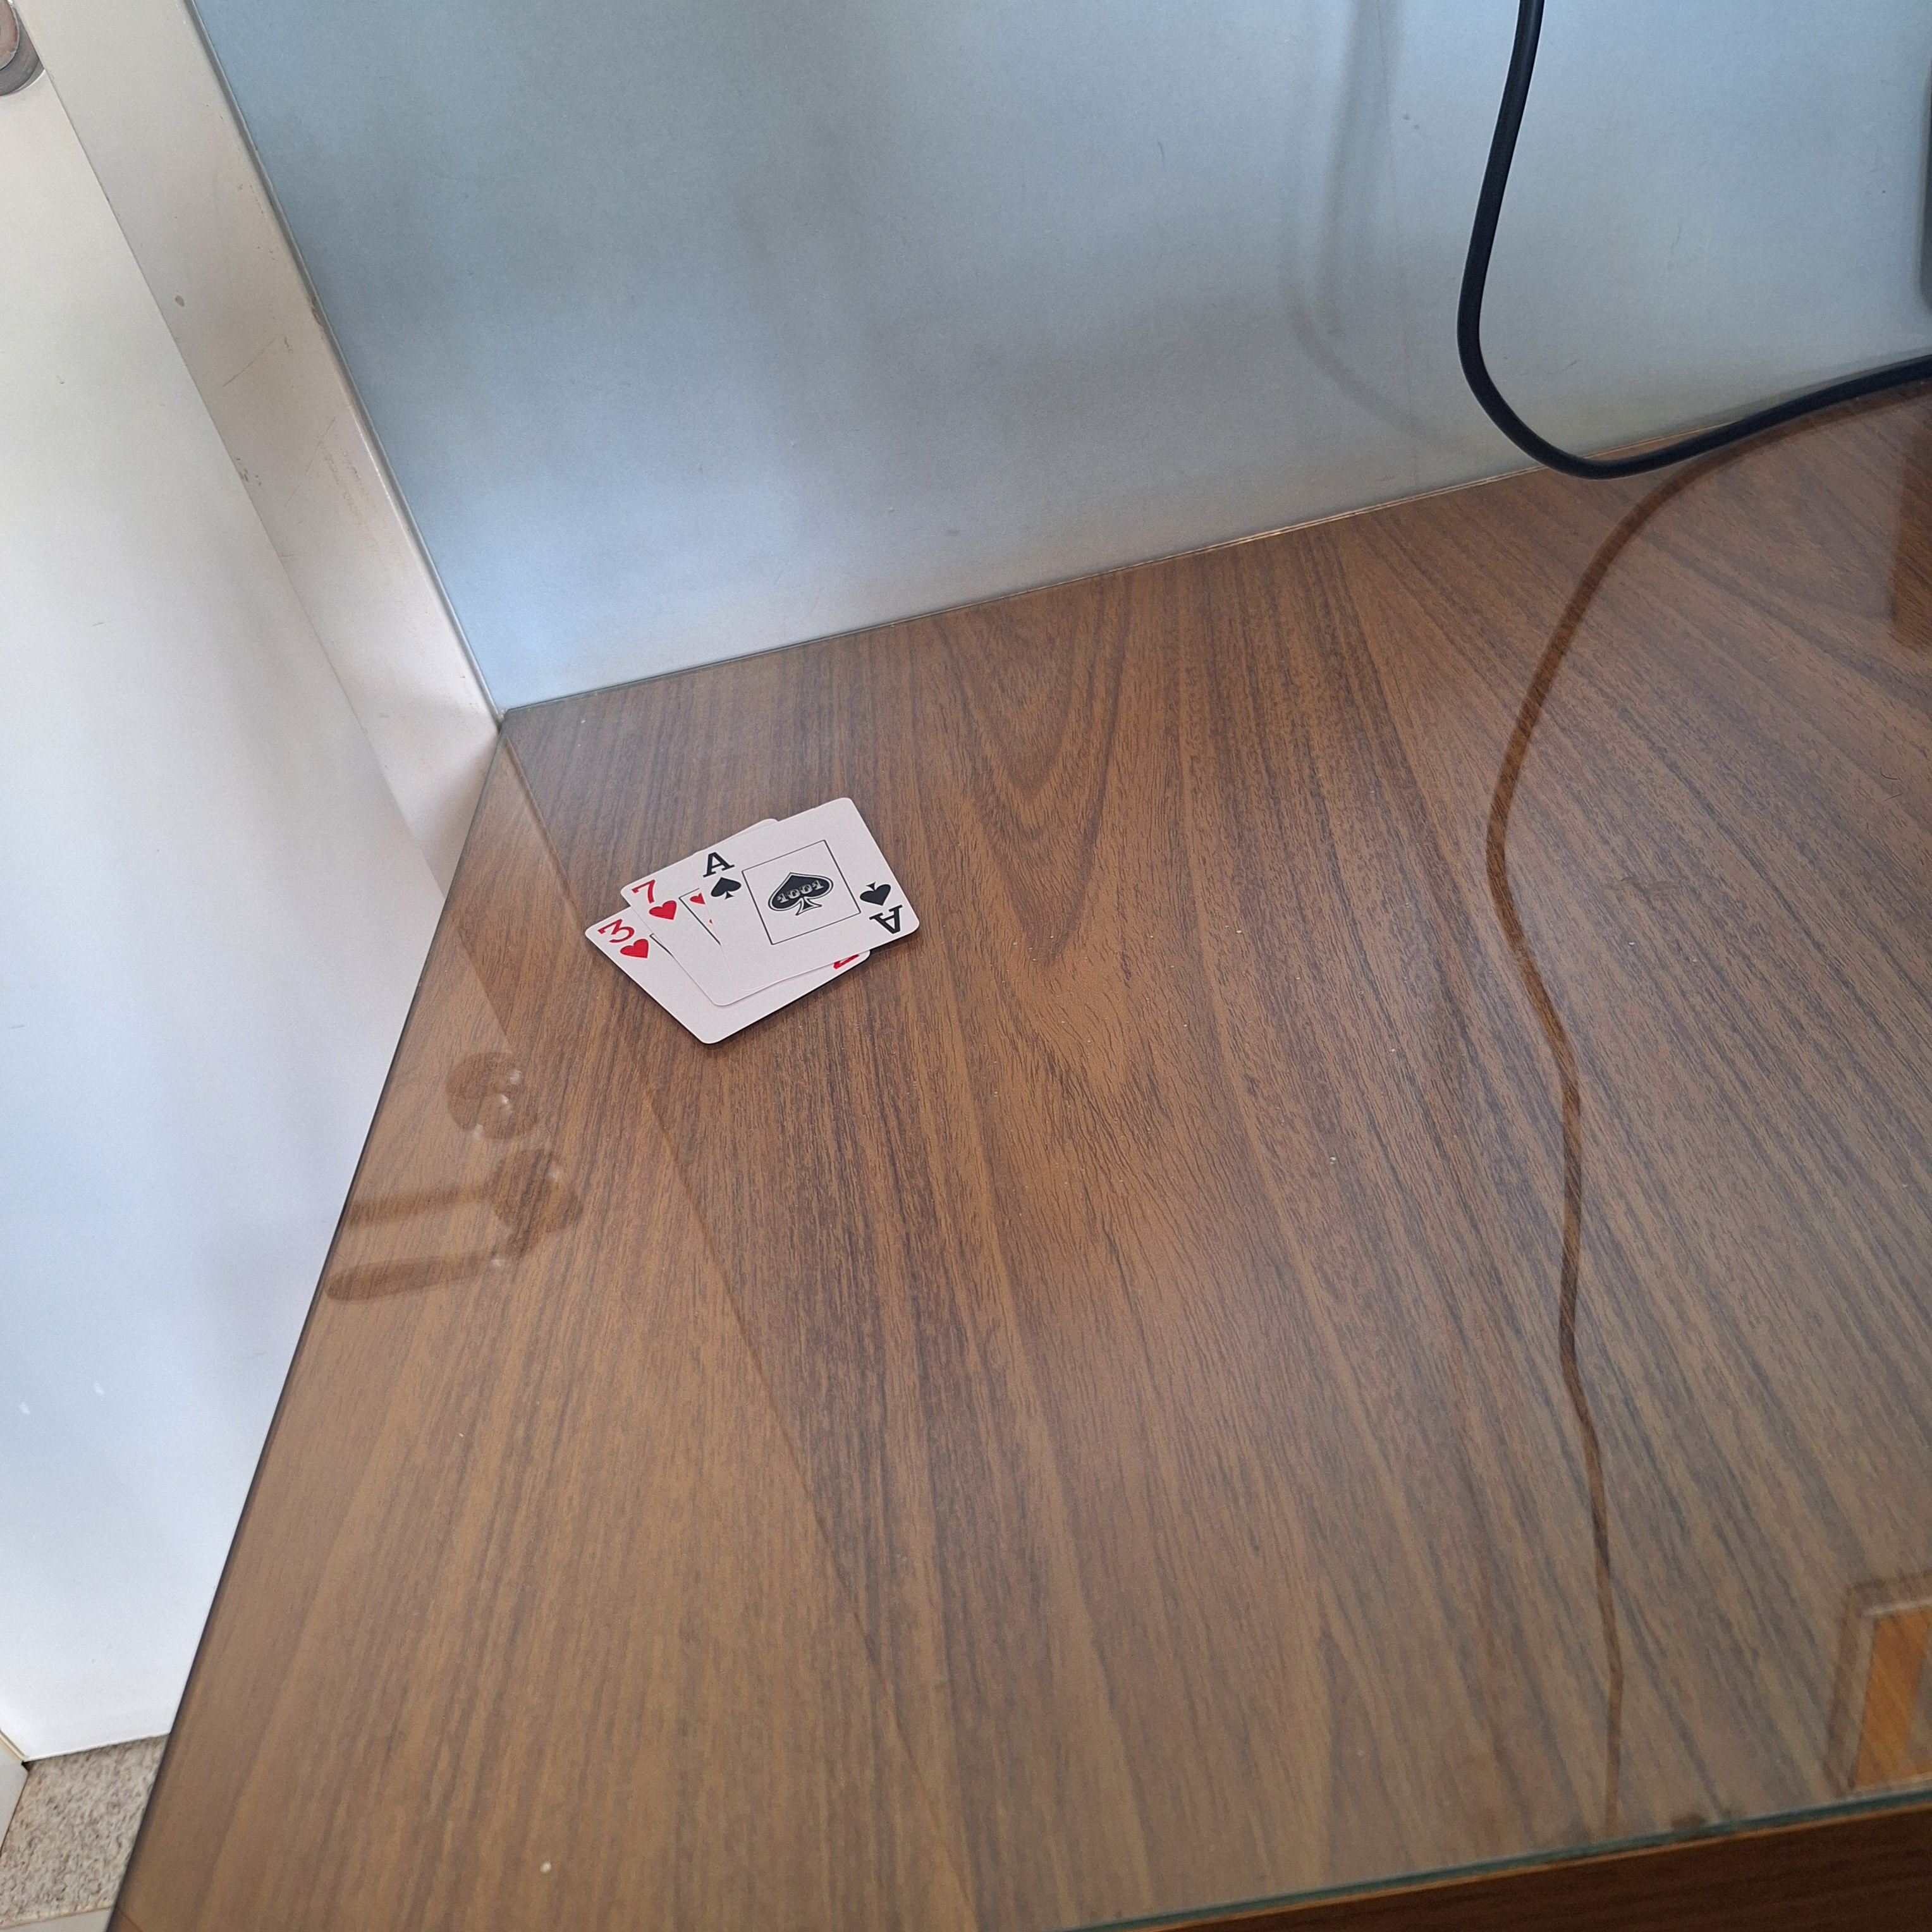3C: (594, 915, 651, 962)
7C: (628, 872, 685, 924)
AE: (855, 878, 909, 939), (701, 846, 747, 904)
